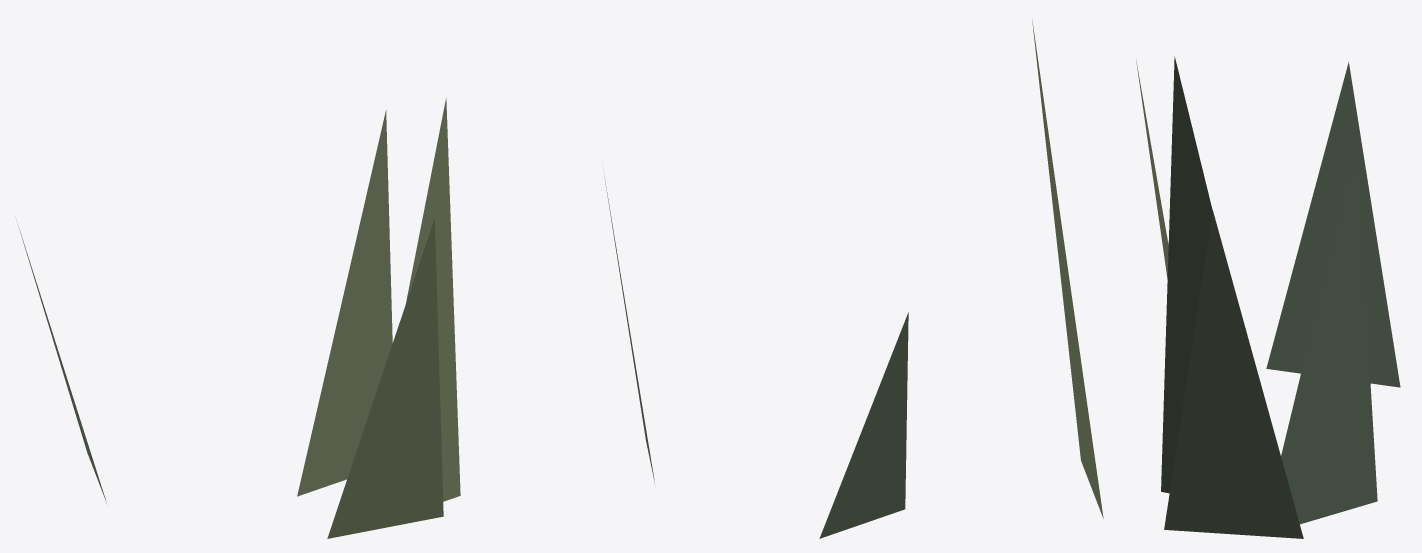
The model's file is grass_tuft.glb.
The picture shows the model from 3 angles, left to right: view 1: azimuth 30°, elevation 25°; view 2: azimuth 150°, elevation 25°; view 3: azimuth 270°, elevation 25°; orthographic projection. The views are drawn at different scales.
Visible parts, largest first — view 1: grass_tuft; view 2: grass_tuft; view 3: grass_tuft.
Part boxes in pixels (x1,y1,x2,y2): grass_tuft: (18,98,460,538); grass_tuft: (604,176,908,538); grass_tuft: (1032,18,1400,538).
Bounding box in the file's own units: 0.4965 × 0.4612 × 0.3954.
